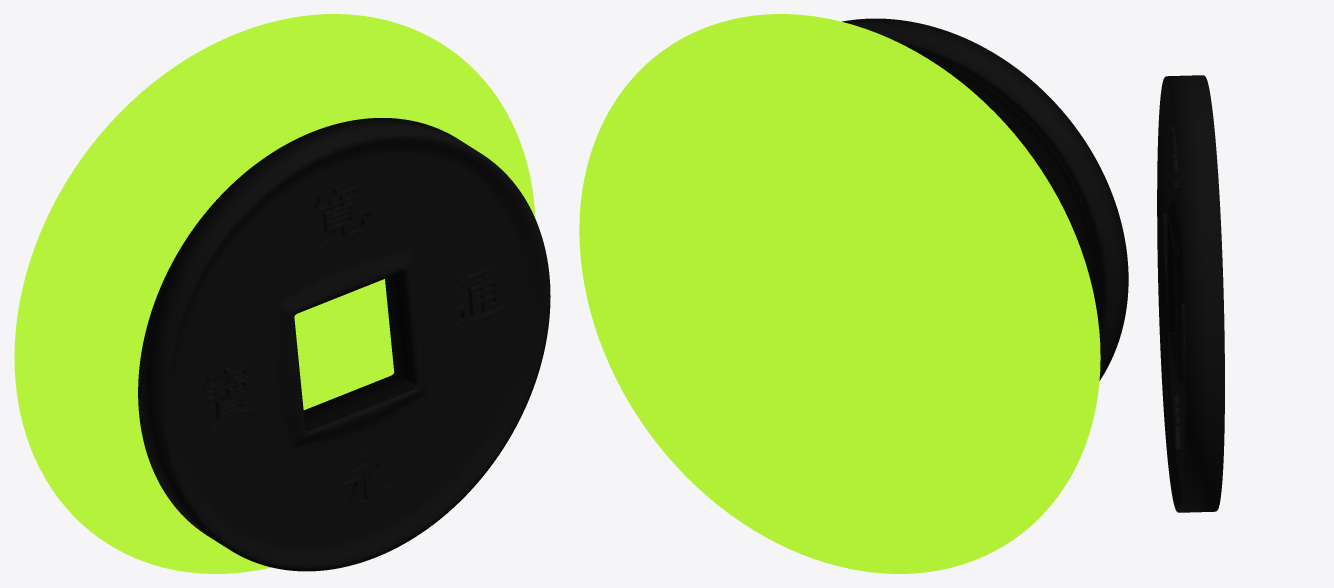
3 renders of one model, left to right at view 1: azimuth 30°, elevation 25°; view 2: azimuth 150°, elevation 25°; view 3: azimuth 270°, elevation 25°, orthographic. The views are drawn at different scales.
Parts seen in each view (by area): view 1: coin, glow, kanji_寶, kanji_寬, kanji_通, kanji_永; view 2: glow, coin; view 3: coin, kanji_寬, kanji_永, kanji_通, kanji_寶.
Boxes of the visible parts, x1,y1,x2,y2 form: coin: (138, 118, 550, 571); glow: (14, 14, 535, 573); kanji_寶: (203, 364, 254, 430); kanji_寬: (314, 183, 372, 249); kanji_通: (452, 265, 504, 329); kanji_永: (340, 454, 391, 510); glow: (579, 14, 1100, 573); coin: (842, 18, 1128, 380); coin: (1157, 75, 1224, 512); kanji_寬: (1170, 126, 1178, 189); kanji_永: (1172, 395, 1180, 449); kanji_通: (1181, 304, 1185, 366); kanji_寶: (1162, 214, 1166, 279).
Bounding box in the file's own units: 2.12 × 2.12 × 0.6161.
